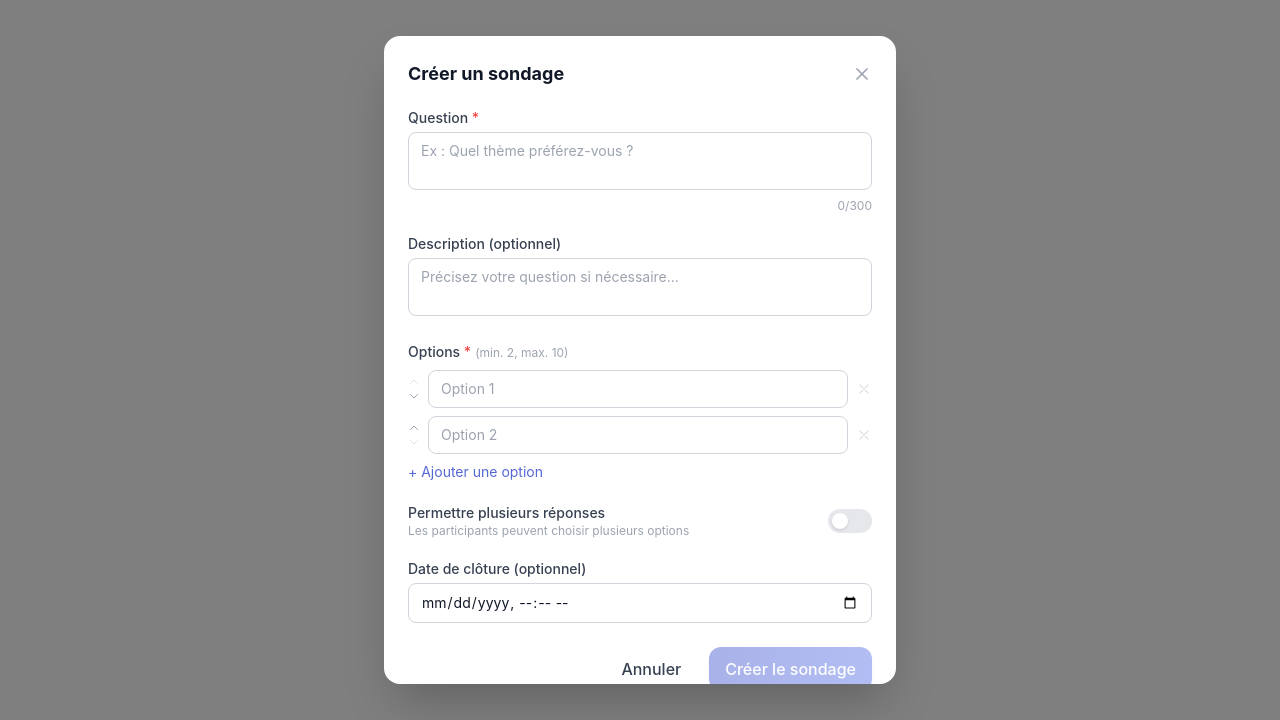
CreatePollModal › shows an error and does not submit when fewer than 2 non-empty options are provided
Type "Quel plat ?" into the text box labelled "Question *" at (640, 161), box [408,132,872,190]
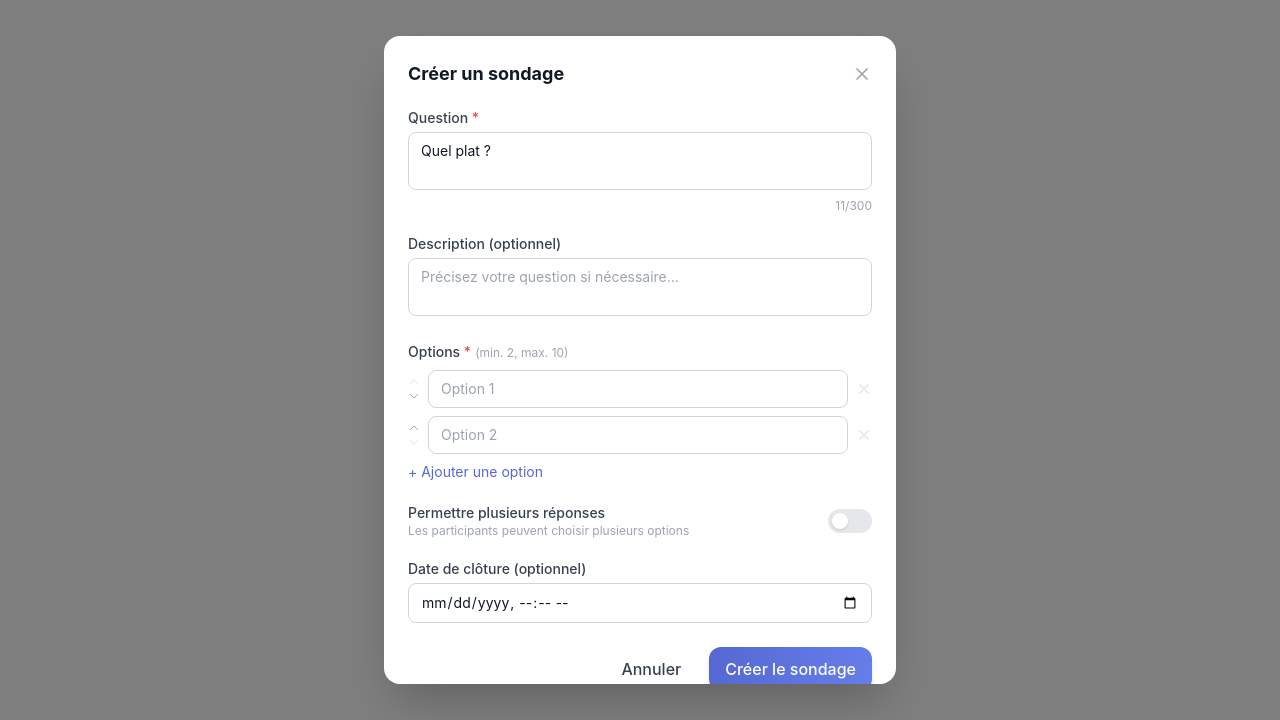
Type "Pizza" into the field with placeholder "Option 1" at (638, 389), box [428,370,848,408]
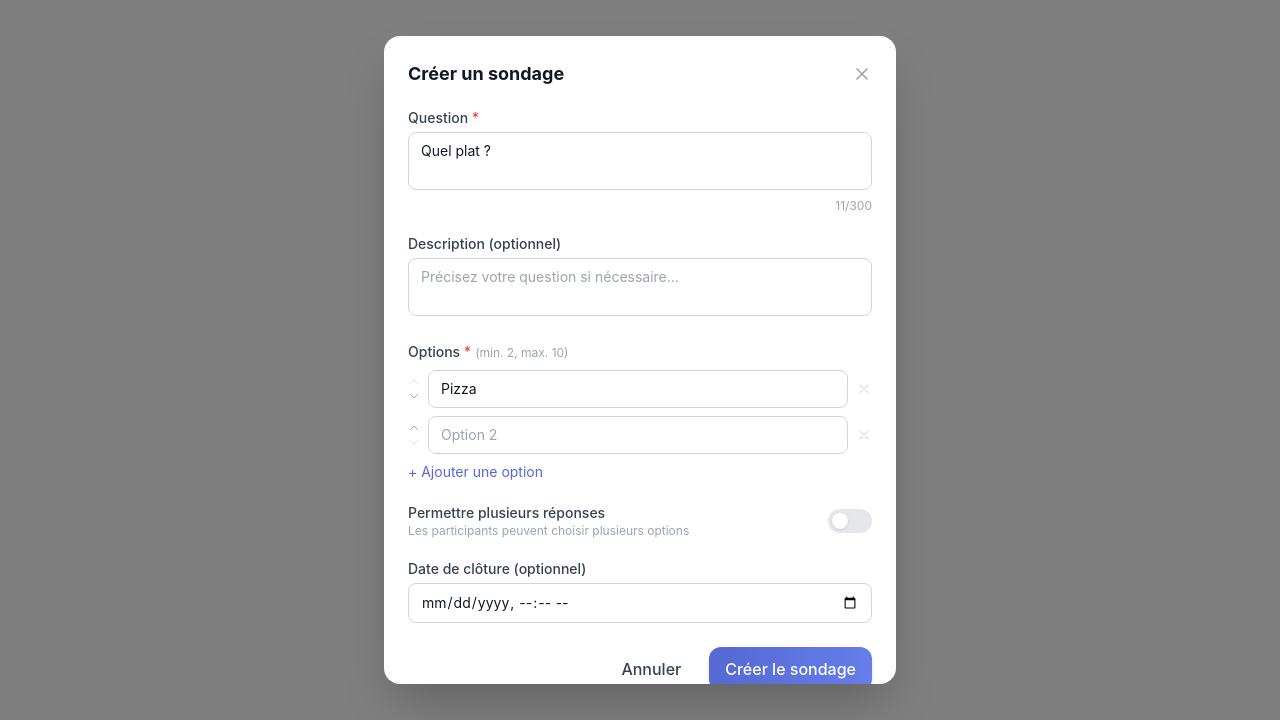
Submit the form named "Créer le sondage", box [408,108,872,691]
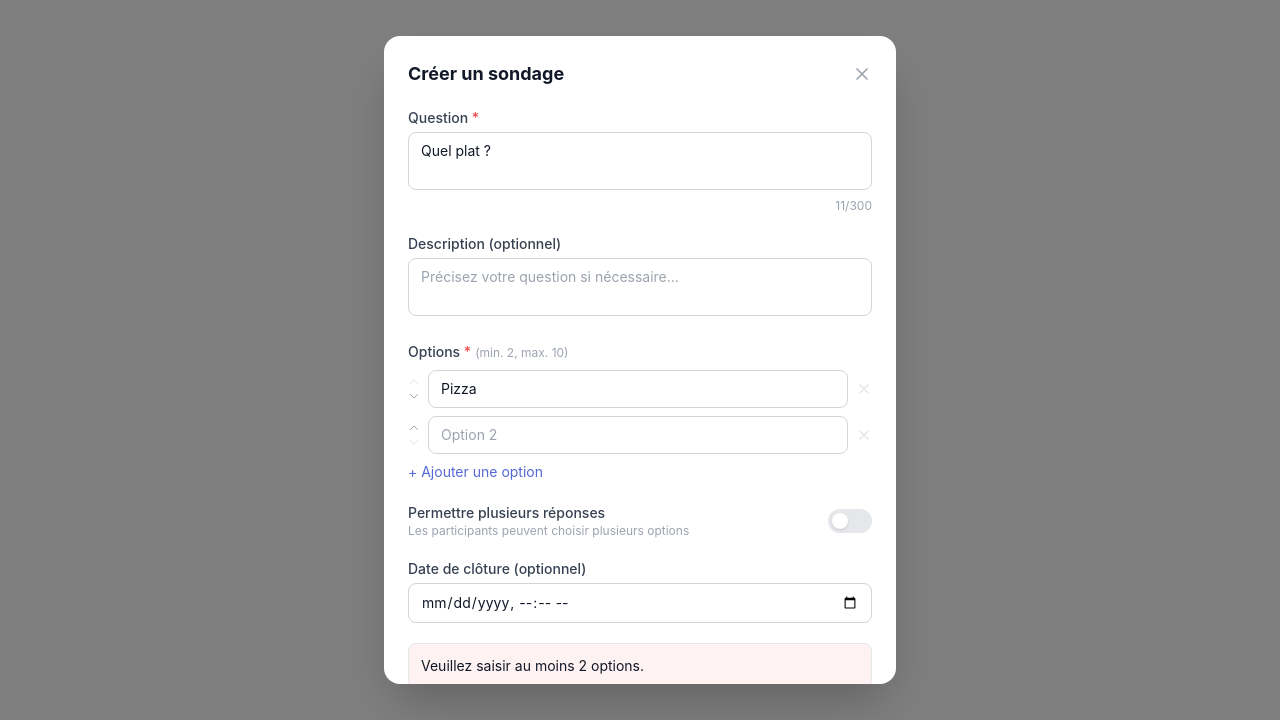
Result: the text "Veuillez saisir au moins 2 options." is shown at [408,643,872,684]
